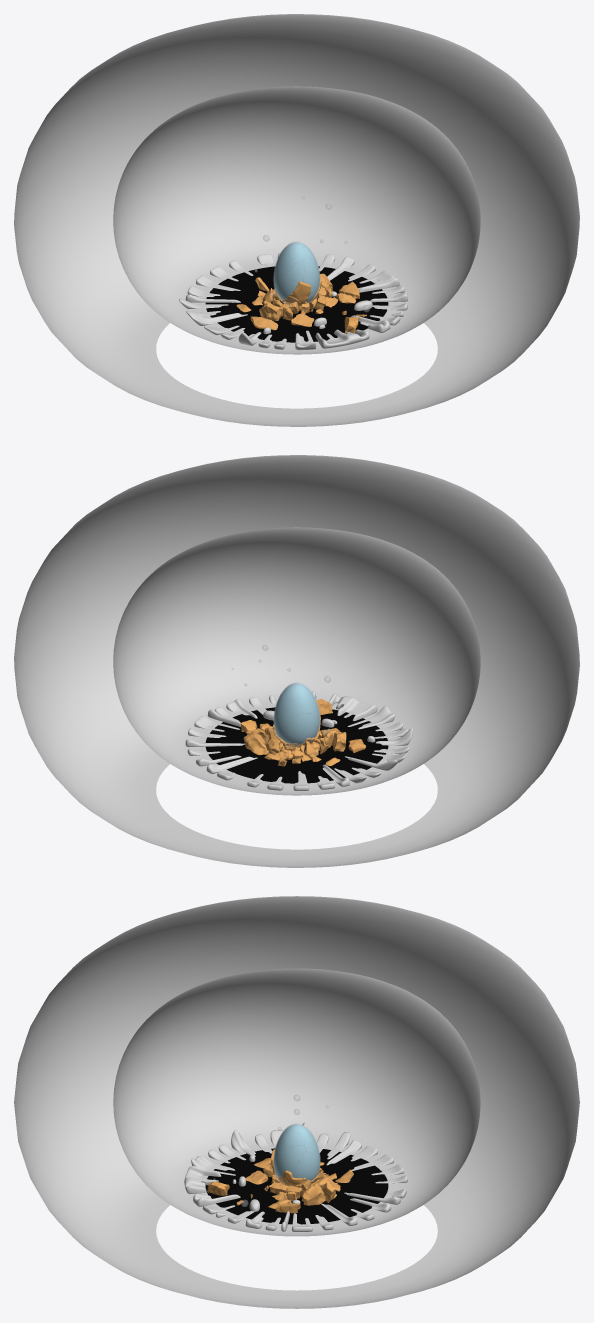
Rendered from PXLs_egg220.glb.
3 renders of one model, top to bottom at view 1: azimuth 30°, elevation 25°; view 2: azimuth 150°, elevation 25°; view 3: azimuth 270°, elevation 25°, orthographic.
Parts seen in each view (by area): view 1: outerCylinder, innerCylinder, pinkGoo1, floorBase, rockDebris, smoke4, smoke3, crackedEgg; view 2: outerCylinder, innerCylinder, pinkGoo1, floorBase, rockDebris, smoke4, smoke3, crackedEgg; view 3: outerCylinder, innerCylinder, pinkGoo1, floorBase, rockDebris, smoke4, smoke3, crackedEgg.
Boxes of the visible parts, bbox=[...] form: outerCylinder: bbox=[14, 14, 579, 426]; innerCylinder: bbox=[113, 86, 480, 354]; pinkGoo1: bbox=[179, 253, 408, 350]; floorBase: bbox=[205, 266, 388, 342]; rockDebris: bbox=[250, 273, 359, 333]; smoke4: bbox=[273, 241, 320, 305]; smoke3: bbox=[274, 241, 319, 302]; crackedEgg: bbox=[274, 242, 319, 302]; outerCylinder: bbox=[14, 455, 579, 867]; innerCylinder: bbox=[113, 527, 480, 795]; pinkGoo1: bbox=[185, 691, 413, 790]; floorBase: bbox=[205, 707, 388, 783]; rockDebris: bbox=[240, 699, 366, 766]; smoke4: bbox=[273, 682, 320, 747]; smoke3: bbox=[274, 682, 319, 746]; crackedEgg: bbox=[274, 683, 319, 744]; outerCylinder: bbox=[14, 896, 579, 1308]; innerCylinder: bbox=[113, 968, 480, 1236]; pinkGoo1: bbox=[184, 1122, 407, 1231]; floorBase: bbox=[205, 1148, 388, 1224]; rockDebris: bbox=[207, 1156, 353, 1213]; smoke4: bbox=[273, 1123, 320, 1185]; smoke3: bbox=[274, 1123, 320, 1179]; crackedEgg: bbox=[274, 1124, 319, 1180].
Bounding box in the file's own units: 22.69 × 11.36 × 22.69.
7 materials, 2 textured.
